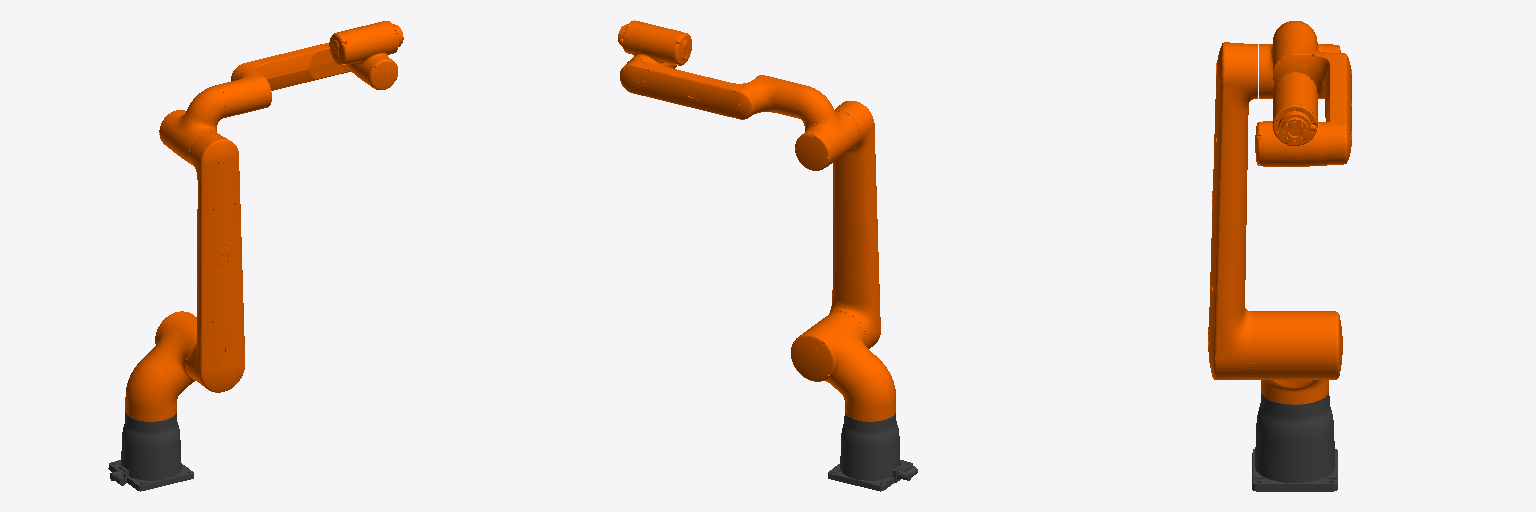
The robot description file, URDF, robot "gofa_crb15000_10kg_152":
<?xml version="1.0" ?>
<robot name="gofa_crb15000_10kg_152">

  <!-- Materials -->
  <material name="abb_orange">
    <color rgba="1.0 0.43 0.0 1.0"/>
  </material>
  
  <material name="abb_dark_gray">
    <color rgba="0.3 0.3 0.3 1.0"/>
  </material>

  <material name="gripper_and_cathode">
    <color rgba="0.5 0.5 0.5 1.0"/>
  </material>

  <!-- Base Link (LINK00) -->
  <link name="base_link">
    <visual>
      <origin xyz="0 0 0" rpy="0 0 0"/>
      <geometry>
        <mesh filename="package://ifpt_gofa/urdf/gofa_description/meshes/CRB15000_10kg-152_Omnicore_rev00_LINK00_CAD.stl"/>
      </geometry>
      <material name="abb_dark_gray"/>
    </visual>
    <collision>
      <origin xyz="0 0 0" rpy="0 0 0"/>
      <geometry>
        <mesh filename="package://ifpt_gofa/urdf/gofa_description/meshes/CRB15000_10kg-152_Omnicore_rev00_LINK00_CAD.stl"/>
      </geometry>
    </collision>
    <inertial>
      <mass value="15.0"/>
      <origin xyz="0 0 0.1" rpy="0 0 0"/>
      <inertia ixx="0.5" ixy="0" ixz="0" iyy="0.5" iyz="0" izz="0.5"/>
    </inertial>
  </link>

  <!-- Link 1 -->
  <link name="link_1">
    <visual>
      <origin xyz="0 0 0" rpy="0 0 0"/>
      <geometry>
        <mesh filename="package://ifpt_gofa/urdf/gofa_description/meshes/CRB15000_10kg-152_Omnicore_rev00_LINK01_CAD.stl"/>
      </geometry>
      <material name="abb_orange"/>
    </visual>
    <collision>
      <origin xyz="0 0 0" rpy="0 0 0"/>
      <geometry>
        <mesh filename="package://ifpt_gofa/urdf/gofa_description/meshes/CRB15000_10kg-152_Omnicore_rev00_LINK01_CAD.stl"/>
      </geometry>
    </collision>
    <inertial>
      <mass value="10.0"/>
      <origin xyz="0 0 0.1" rpy="0 0 0"/>
      <inertia ixx="0.4" ixy="0" ixz="0" iyy="0.4" iyz="0" izz="0.3"/>
    </inertial>
  </link>

  <!-- Link 2 -->
  <link name="link_2">
    <visual>
      <origin xyz="-0.15 0 -0.4" rpy="0 0 0"/>
      <geometry>
        <mesh filename="package://ifpt_gofa/urdf/gofa_description/meshes/CRB15000_10kg-152_Omnicore_rev00_LINK02_CAD.stl"/>
      </geometry>
      <material name="abb_orange"/>
    </visual>
    <collision>
      <origin xyz="-0.15 0 -0.4" rpy="0 0 0"/>
      <geometry>
        <mesh filename="package://ifpt_gofa/urdf/gofa_description/meshes/CRB15000_10kg-152_Omnicore_rev00_LINK02_CAD.stl"/>
      </geometry>
    </collision>
    <inertial>
      <mass value="9.0"/>
      <origin xyz="0 0 0" rpy="0 0 0"/>
      <inertia ixx="1.0" ixy="0" ixz="0" iyy="1.0" iyz="0" izz="0.2"/>
    </inertial>
  </link>

  <!-- Link 3 -->
  <link name="link_3">
    <visual>
      <origin xyz="-0.15 -0.085 -1.107" rpy="0 0 0"/>
      <geometry>
        <mesh filename="package://ifpt_gofa/urdf/gofa_description/meshes/CRB15000_10kg-152_Omnicore_rev00_LINK03_CAD.stl"/>
      </geometry>
      <material name="abb_orange"/>
    </visual>
    <collision>
      <origin xyz="-0.15 -0.085 -1.107" rpy="0 0 0"/>
      <geometry>
        <mesh filename="package://ifpt_gofa/urdf/gofa_description/meshes/CRB15000_10kg-152_Omnicore_rev00_LINK03_CAD.stl"/>
      </geometry>
    </collision>
    <inertial>
      <mass value="8.0"/>
      <origin xyz="0 0 0.3" rpy="0 0 0"/>
      <inertia ixx="0.8" ixy="0" ixz="0" iyy="0.8" iyz="0" izz="0.2"/>
    </inertial>
  </link>

  <!-- Link 4 -->
  <link name="link_4">
    <visual>
      <origin xyz="-0.247 0 -1.217" rpy="0 0 0"/>
      <geometry>
        <mesh filename="package://ifpt_gofa/urdf/gofa_description/meshes/CRB15000_10kg-152_Omnicore_rev00_LINK04_CAD.stl"/>
      </geometry>
      <material name="abb_orange"/>
    </visual>
    <collision>
      <origin xyz="-0.247 0 -1.217" rpy="0 0 0"/>
      <geometry>
        <mesh filename="package://ifpt_gofa/urdf/gofa_description/meshes/CRB15000_10kg-152_Omnicore_rev00_LINK04_CAD.stl"/>
      </geometry>
    </collision>
    <inertial>
      <mass value="4.0"/>
      <origin xyz="0 0 0" rpy="0 0 0"/>
      <inertia ixx="0.1" ixy="0" ixz="0" iyy="0.1" iyz="0" izz="0.1"/>
    </inertial>
  </link>

  <!-- Link 5 -->
  <link name="link_5">
    <visual>
      <origin xyz="-0.792 -0.0745 -1.217" rpy="0 0 0"/>
      <geometry>
        <mesh filename="package://ifpt_gofa/urdf/gofa_description/meshes/CRB15000_10kg-152_Omnicore_rev00_LINK05_CAD.stl"/>
      </geometry>
      <material name="abb_orange"/>
    </visual>
    <collision>
      <origin xyz="-0.792 -0.0745 -1.217" rpy="0 0 0"/>
      <geometry>
        <mesh filename="package://ifpt_gofa/urdf/gofa_description/meshes/CRB15000_10kg-152_Omnicore_rev00_LINK05_CAD.stl"/>
      </geometry>
    </collision>
    <inertial>
      <mass value="3.0"/>
      <origin xyz="0 0 0" rpy="0 0 0"/>
      <inertia ixx="0.05" ixy="0" ixz="0" iyy="0.05" iyz="0" izz="0.05"/>
    </inertial>
  </link>

  <!-- Link 6 -->
  <link name="link_6">
    <visual>
      <origin xyz="-0.8604 0 -1.297" rpy="0 0 0"/>
      <geometry>
        <mesh filename="package://ifpt_gofa/urdf/gofa_description/meshes/CRB15000_10kg-152_Omnicore_rev00_LINK06_CAD.stl"/>
      </geometry>
      <material name="abb_orange"/>
    </visual>
    <collision>
      <origin xyz="-0.8604 0 -1.297" rpy="0 0 0"/>
      <geometry>
        <mesh filename="package://ifpt_gofa/urdf/gofa_description/meshes/CRB15000_10kg-152_Omnicore_rev00_LINK06_CAD.stl"/>
      </geometry>
    </collision>
    <inertial>
      <mass value="2.0"/>
      <origin xyz="0 0 0" rpy="0 0 0"/>
      <inertia ixx="0.01" ixy="0" ixz="0" iyy="0.01" iyz="0" izz="0.01"/>
    </inertial>
  </link>

  <!-- Tool0 Link - Standard Tool Frame -->
  <!-- <link name="gripper_with_EE">
    <collision>
	  <origin xyz="0.135 0 -0.075" rpy="0 0 1.5708"/>
      <geometry>
        <mesh filename="package://obstacles/New/robot_gripper_with_wpc_v1.stl" scale="1 1 1"/>
      </geometry>
    </collision>
    <visual>
	  <origin xyz="0.135 0 -0.075" rpy="0 0 1.5708"/>
      <geometry>
        <mesh filename="obstacles/New/robot_gripper_with_wpc_v1.stl" scale="1 1 1"/>
      </geometry>
      <material name="gripper_and_cathode"/>
    </visual>
  </link> -->

  <!-- Joint 1 (Axis 1 Rotation) -->
  <joint name="joint_1" type="revolute">
    <parent link="base_link"/>
    <child link="link_1"/>
    <origin xyz="0 0 0" rpy="0 0 0"/>
    <axis xyz="0 0 1"/>
    <limit lower="-4.71239" upper="4.71239" effort="100" velocity="2.0944"/>  <!-- -270° to 270°, 120°/s -->
    <dynamics damping="50" friction="1"/>
  </joint>

  <!-- Joint 2 (Axis 2 Arm) -->
  <joint name="joint_2" type="revolute">
    <parent link="link_1"/>
    <child link="link_2"/>
    <origin xyz="0.15 0 0.4" rpy="0 0 0"/>
    <axis xyz="0 1 0"/>
    <limit lower="-3.14159" upper="3.14159" effort="100" velocity="2.0944"/>  <!-- -180° to 180°, 120°/s -->
    <dynamics damping="50" friction="1"/>
  </joint>

  <!-- Joint 3 (Axis 3 Arm) -->
  <joint name="joint_3" type="revolute">
    <parent link="link_2"/>
    <child link="link_3"/>
    <origin xyz="0 0.085 0.707" rpy="0 0 0"/>
    <axis xyz="0 1 0"/>
    <limit lower="-3.92699" upper="1.48353" effort="100" velocity="2.1817"/>  <!-- -225° to 85°, 125°/s -->
    <dynamics damping="40" friction="1"/>
  </joint>

  <!-- Joint 4 (Axis 4 Wrist) -->
  <joint name="joint_4" type="revolute">
    <parent link="link_3"/>
    <child link="link_4"/>
    <origin xyz="0.093 -0.085 0.11" rpy="0 0 0"/>
    <axis xyz="1 0 0"/>
    <limit lower="-3.14159" upper="3.14159" effort="30" velocity="3.49066"/>  <!-- -180° to 180°, 200°/s -->
    <dynamics damping="30" friction="0.5"/>
  </joint>

  <!-- Joint 5 (Axis 5 Bend) -->
  <joint name="joint_5" type="revolute">
    <parent link="link_4"/>
    <child link="link_5"/>
    <origin xyz="0.549 0.0745 0" rpy="0 0 0"/>
    <axis xyz="0 1 0"/>
    <limit lower="-3.14159" upper="3.14159" effort="30" velocity="3.49066"/>  <!-- -180° to 180°, 200°/s -->
    <dynamics damping="20" friction="0.5"/>
  </joint>

  <!-- Joint 6 (Axis 6 Turn) -->
  <joint name="joint_6" type="revolute">
    <parent link="link_5"/>
    <child link="link_6"/>
    <origin xyz="0.0684 -0.0745 0.08" rpy="0 0 0"/>
    <axis xyz="1 0 0"/>
    <limit lower="-4.71239" upper="4.71239" effort="20" velocity="3.49066"/>  <!-- -270° to 270°, 200°/s -->
    <dynamics damping="10" friction="0.3"/>
  </joint>

  <!-- Tool0 Joint (Fixed) (Standard ISO 9409-1-50 tool flange)-->
  <!-- <joint name="joint_ee" type="fixed">
    <parent link="link_6"/>
    <child link="gripper_with_EE"/>
    <origin xyz="0 0 0" rpy="0 0 0"/> 
  </joint> -->

  <!-- TCP Dummy Link (Line 5th below: Offset of 5cm along z-axis, adjust as needed)-->
  <!-- <link name="tcp_offset"/>
  <joint name="joint_tcp" type="fixed">
    <parent link="gripper_with_EE"/>
    <child link="tcp_offset"/>
    <origin xyz="0 0 0" rpy="0 0 0"/>
  </joint> -->

  <!-- Gazebo-specific elements -->
  <gazebo>
    <plugin name="gazebo_ros_control" filename="libgazebo_ros_control.so">
      <robotNamespace>/gofa_crb15000_10kg_152</robotNamespace>
      <robotSimType>gazebo_ros_control/DefaultRobotHWSim</robotSimType>
    </plugin>
  </gazebo>

  <!-- Transmission elements for control -->
  <transmission name="trans_joint_1">
    <type>transmission_interface/SimpleTransmission</type>
    <joint name="joint_1">
      <hardwareInterface>hardware_interface/PositionJointInterface</hardwareInterface>
    </joint>
    <actuator name="motor_joint_1">
      <mechanicalReduction>1</mechanicalReduction>
      <hardwareInterface>hardware_interface/PositionJointInterface</hardwareInterface>
    </actuator>
  </transmission>

  <transmission name="trans_joint_2">
    <type>transmission_interface/SimpleTransmission</type>
    <joint name="joint_2">
      <hardwareInterface>hardware_interface/PositionJointInterface</hardwareInterface>
    </joint>
    <actuator name="motor_joint_2">
      <mechanicalReduction>1</mechanicalReduction>
      <hardwareInterface>hardware_interface/PositionJointInterface</hardwareInterface>
    </actuator>
  </transmission>

  <transmission name="trans_joint_3">
    <type>transmission_interface/SimpleTransmission</type>
    <joint name="joint_3">
      <hardwareInterface>hardware_interface/PositionJointInterface</hardwareInterface>
    </joint>
    <actuator name="motor_joint_3">
      <mechanicalReduction>1</mechanicalReduction>
      <hardwareInterface>hardware_interface/PositionJointInterface</hardwareInterface>
    </actuator>
  </transmission>

  <transmission name="trans_joint_4">
    <type>transmission_interface/SimpleTransmission</type>
    <joint name="joint_4">
      <hardwareInterface>hardware_interface/PositionJointInterface</hardwareInterface>
    </joint>
    <actuator name="motor_joint_4">
      <mechanicalReduction>1</mechanicalReduction>
      <hardwareInterface>hardware_interface/PositionJointInterface</hardwareInterface>
    </actuator>
  </transmission>

  <transmission name="trans_joint_5">
    <type>transmission_interface/SimpleTransmission</type>
    <joint name="joint_5">
      <hardwareInterface>hardware_interface/PositionJointInterface</hardwareInterface>
    </joint>
    <actuator name="motor_joint_5">
      <mechanicalReduction>1</mechanicalReduction>
      <hardwareInterface>hardware_interface/PositionJointInterface</hardwareInterface>
    </actuator>
  </transmission>

  <transmission name="trans_joint_6">
    <type>transmission_interface/SimpleTransmission</type>
    <joint name="joint_6">
      <hardwareInterface>hardware_interface/PositionJointInterface</hardwareInterface>
    </joint>
    <actuator name="motor_joint_6">
      <mechanicalReduction>1</mechanicalReduction>
      <hardwareInterface>hardware_interface/PositionJointInterface</hardwareInterface>
    </actuator>
  </transmission>
</robot>

--- Render facts (derived) ---
The picture shows the robot from 3 angles, left to right: view 1: azimuth 30°, elevation 25°; view 2: azimuth 150°, elevation 25°; view 3: azimuth 270°, elevation 25°; orthographic projection.
Robot: gofa_crb15000_10kg_152 — 7 links, 6 joints (6 revolute); root link base_link; default pose: every joint at zero.
Links seen in each view (by area): view 1: link_2, link_1, link_4, base_link, link_5, link_3; view 2: link_2, link_1, link_4, base_link, link_3, link_5; view 3: link_2, link_1, base_link, link_4, link_5, link_6, link_3.
Link boxes in pixels (x1,y1,x2,y2): link_2: (186, 132, 244, 392); link_1: (125, 311, 196, 421); link_4: (215, 43, 350, 117); base_link: (108, 411, 193, 491); link_5: (329, 21, 397, 89); link_3: (159, 86, 226, 164); link_2: (829, 101, 880, 348); link_1: (791, 311, 895, 421); link_4: (620, 59, 805, 119); base_link: (828, 413, 917, 491); link_3: (794, 86, 859, 170); link_5: (624, 21, 691, 68); link_2: (1208, 42, 1257, 379); link_1: (1254, 311, 1342, 404); base_link: (1252, 393, 1337, 491); link_4: (1273, 25, 1351, 164); link_5: (1255, 72, 1326, 166); link_6: (1273, 105, 1317, 145); link_3: (1259, 21, 1340, 98).
Size in the robot's own frame: 1.03 by 0.3367 by 1.35 metres.
7 mesh visuals loaded from 7 distinct referenced files (7 binary STL).
